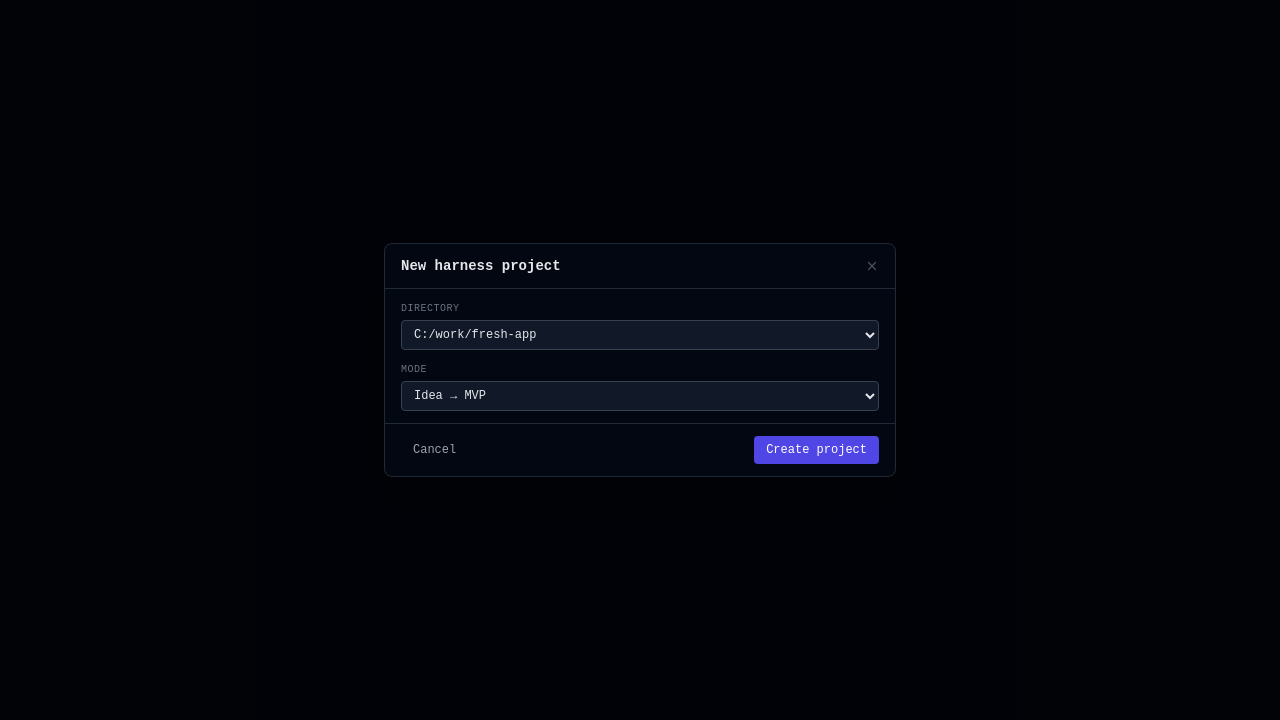
Test: NewHarnessProjectDialog › surfaces a server error (e.g. path_not_allowed) without claiming success
This screenshot has width=1280, height=720.
Click the button "Create project": (817, 450) [754,436,879,464]
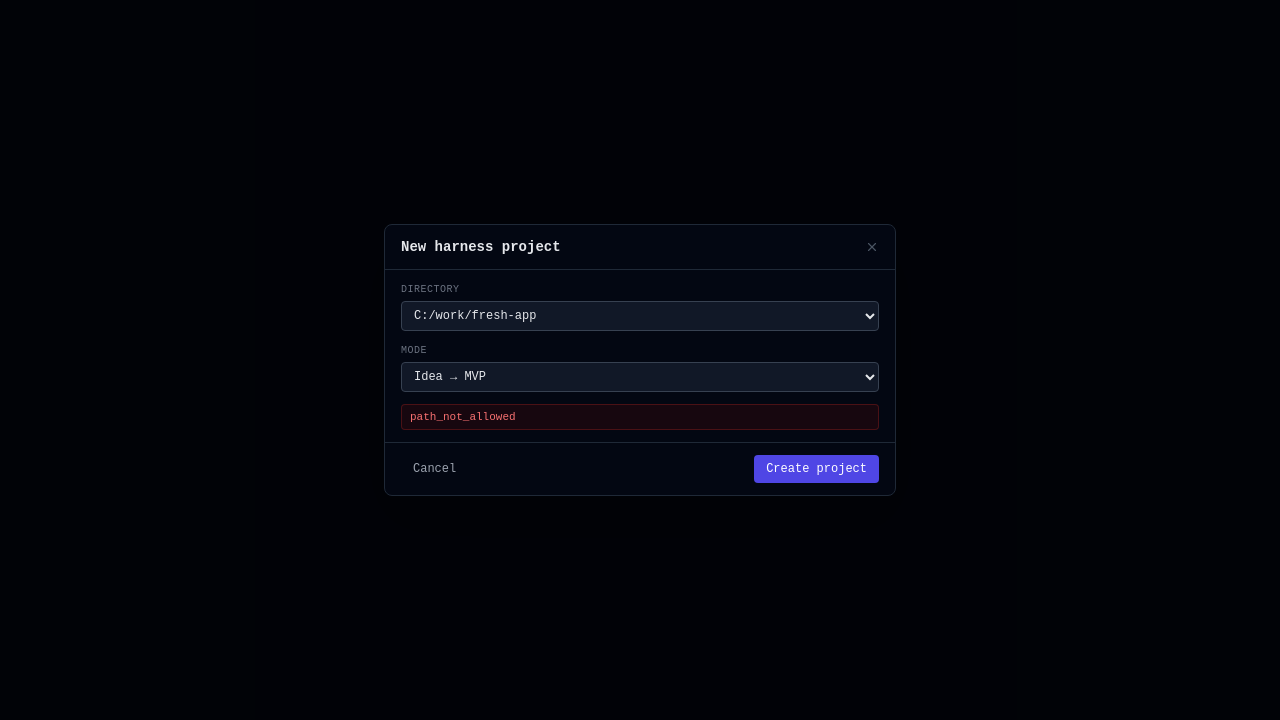
Result: the text "path_not_allowed" is shown at [401,404,879,430]
